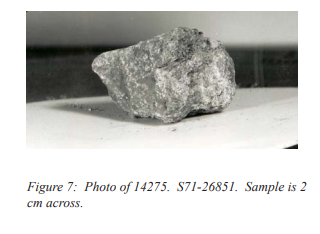Breccia: (81, 11, 255, 134)
